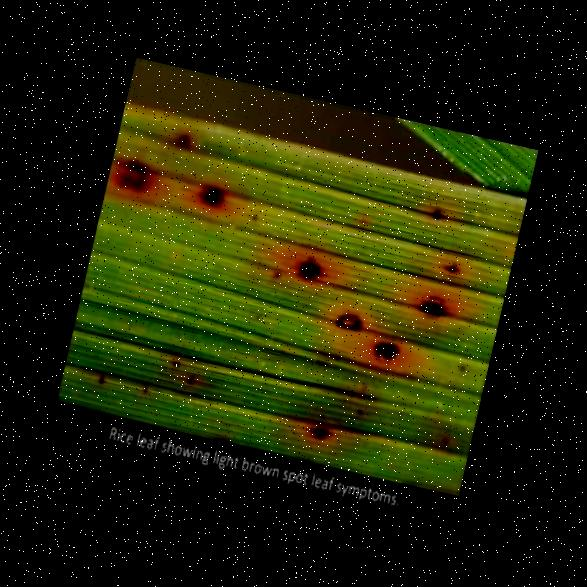Brown_Spot: (273, 222, 346, 298), (102, 136, 174, 210), (178, 156, 248, 226), (292, 405, 356, 452), (357, 320, 413, 368), (416, 278, 460, 329), (328, 296, 375, 339), (417, 188, 456, 232), (166, 123, 203, 153), (435, 247, 466, 280)
